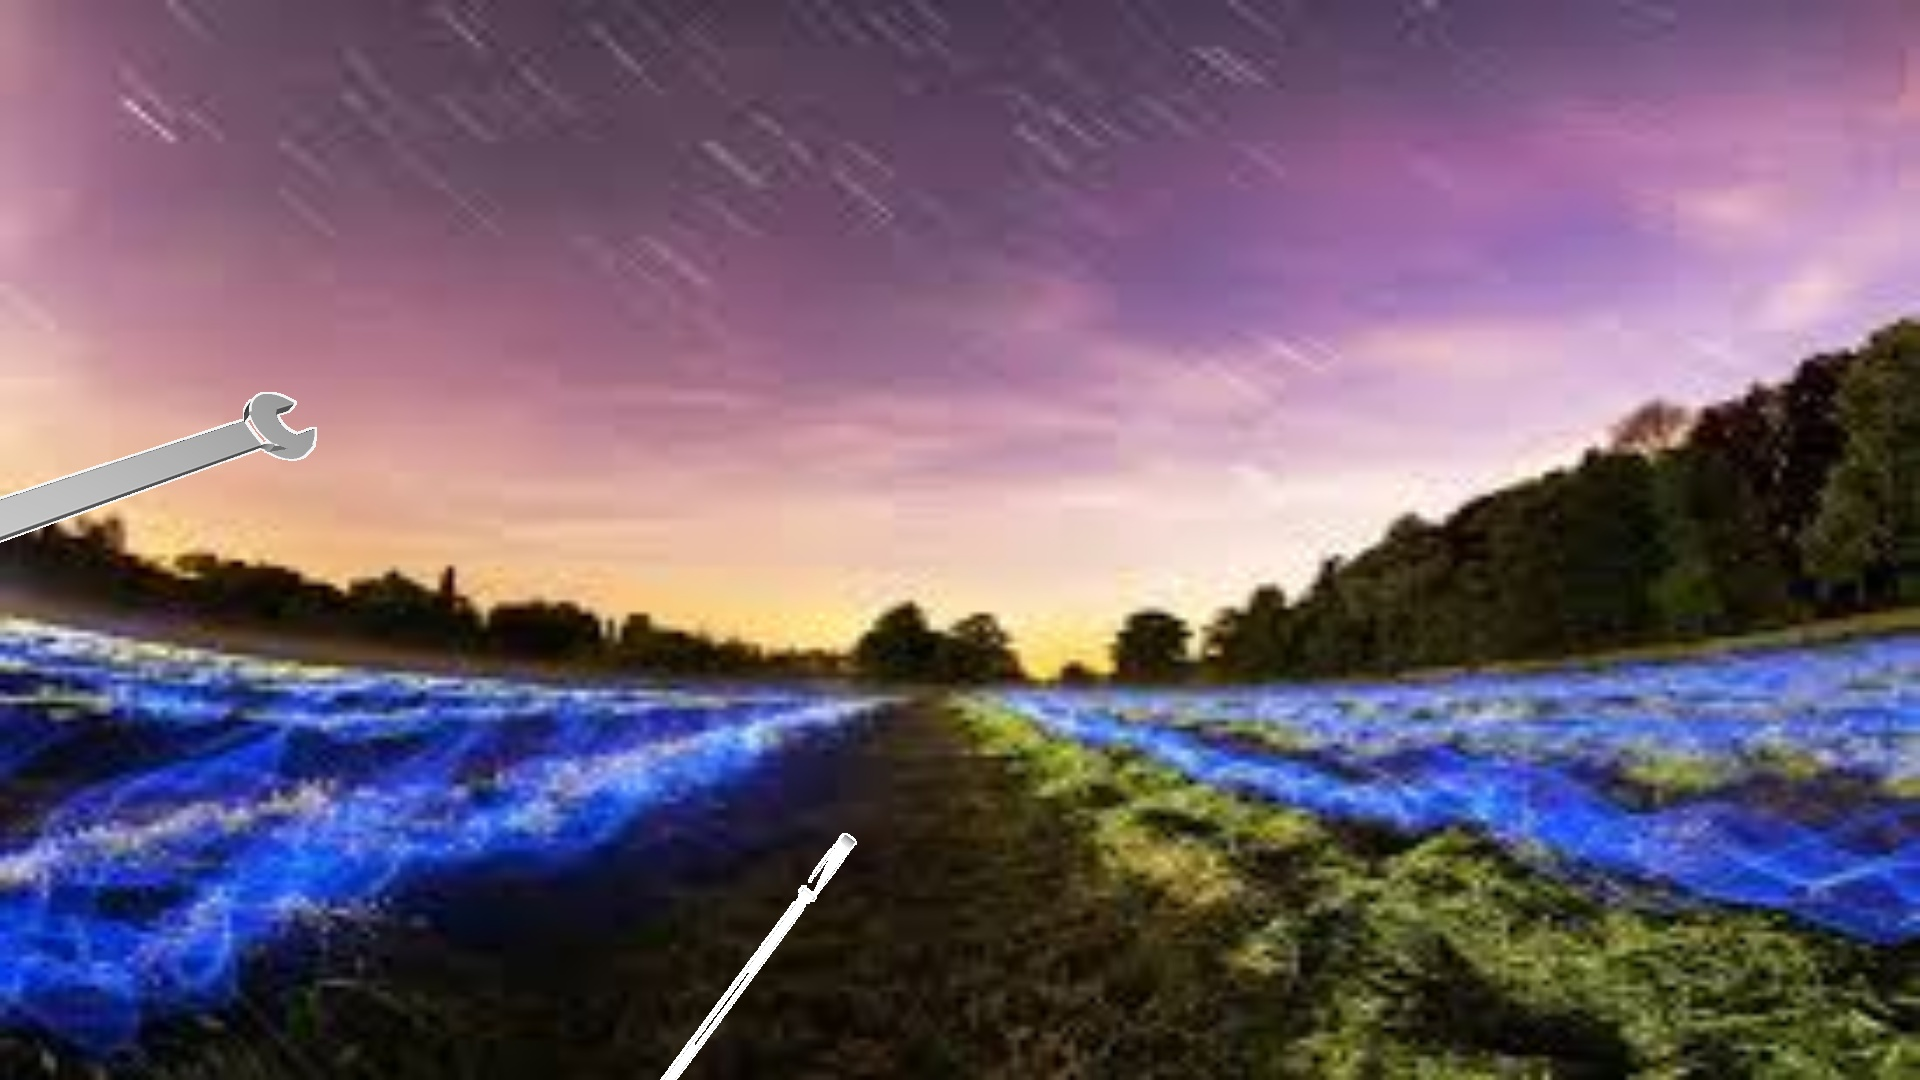Mixed Key: (659, 833, 856, 1079), (0, 392, 316, 542)
